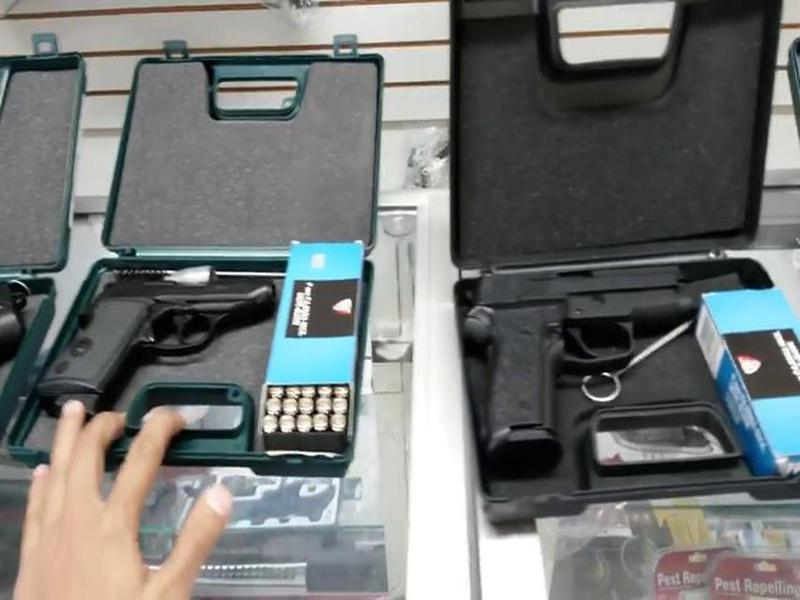Pistola: (41, 270, 295, 423)
